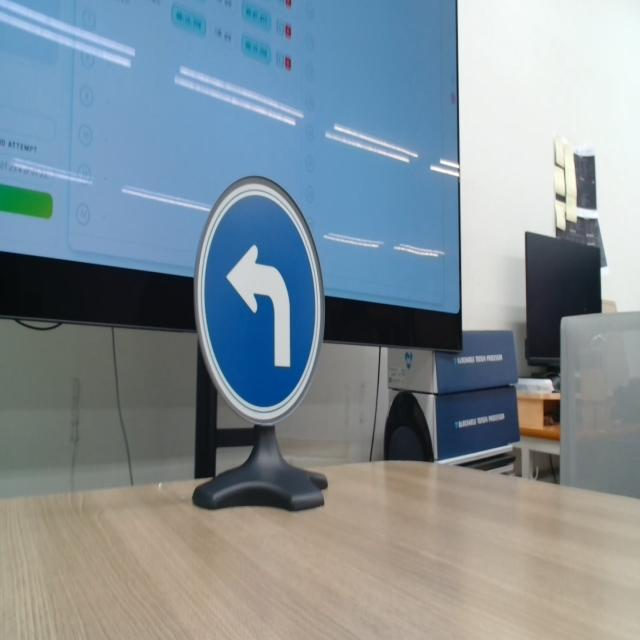left_direction: (192, 154, 334, 440)
